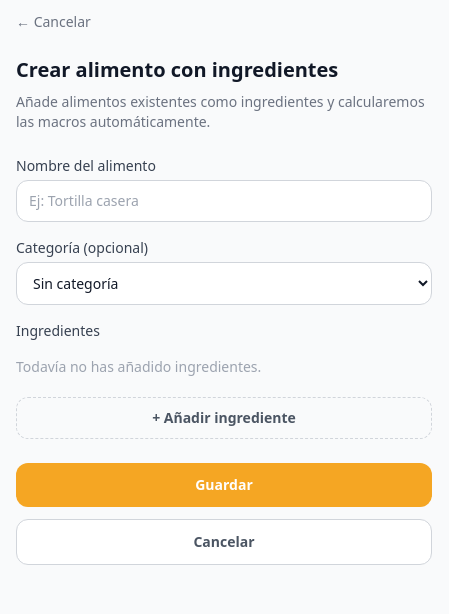
Test case: IngredientsBuilderRoute › blocks save when there are zero ingredients
Type "Tortilla" into the field labelled "Nombre del alimento" at (224, 201), box [16,180,432,222]
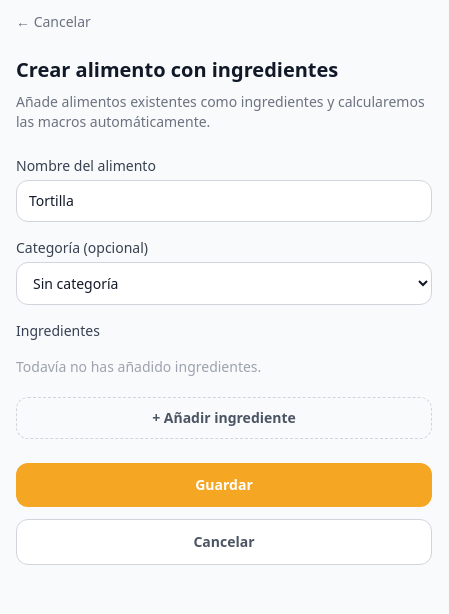
Select "🥚 Huevos" in the dropdown labelled "Categoría (opcional)" at (224, 284), box [16,262,432,305]
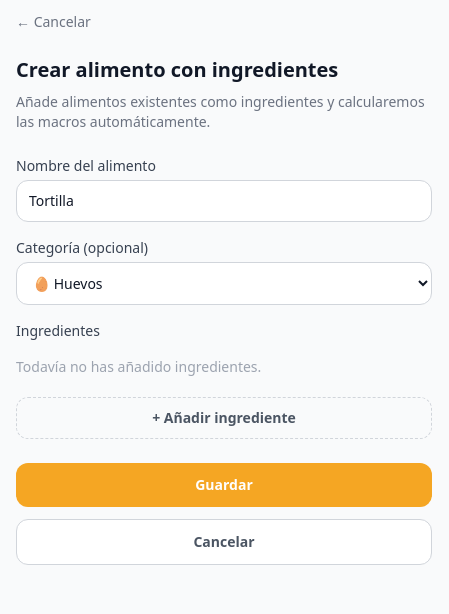
Click the button "Guardar" at (224, 485), box [16,463,432,507]
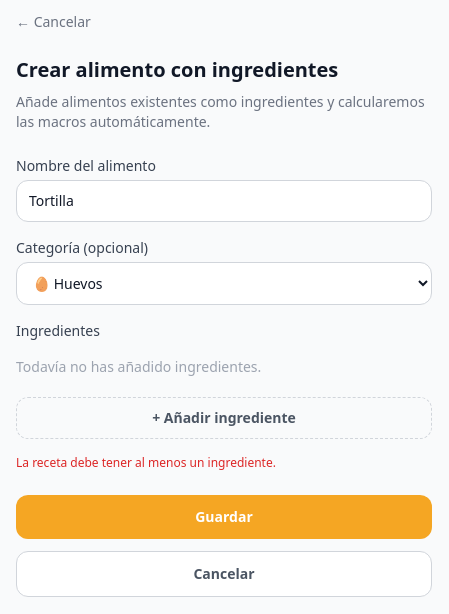
Expected: the text "La receta debe tener al menos un ingrediente." is shown, [16,454,276,471]
